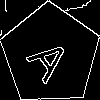A: (26, 30, 81, 85)
